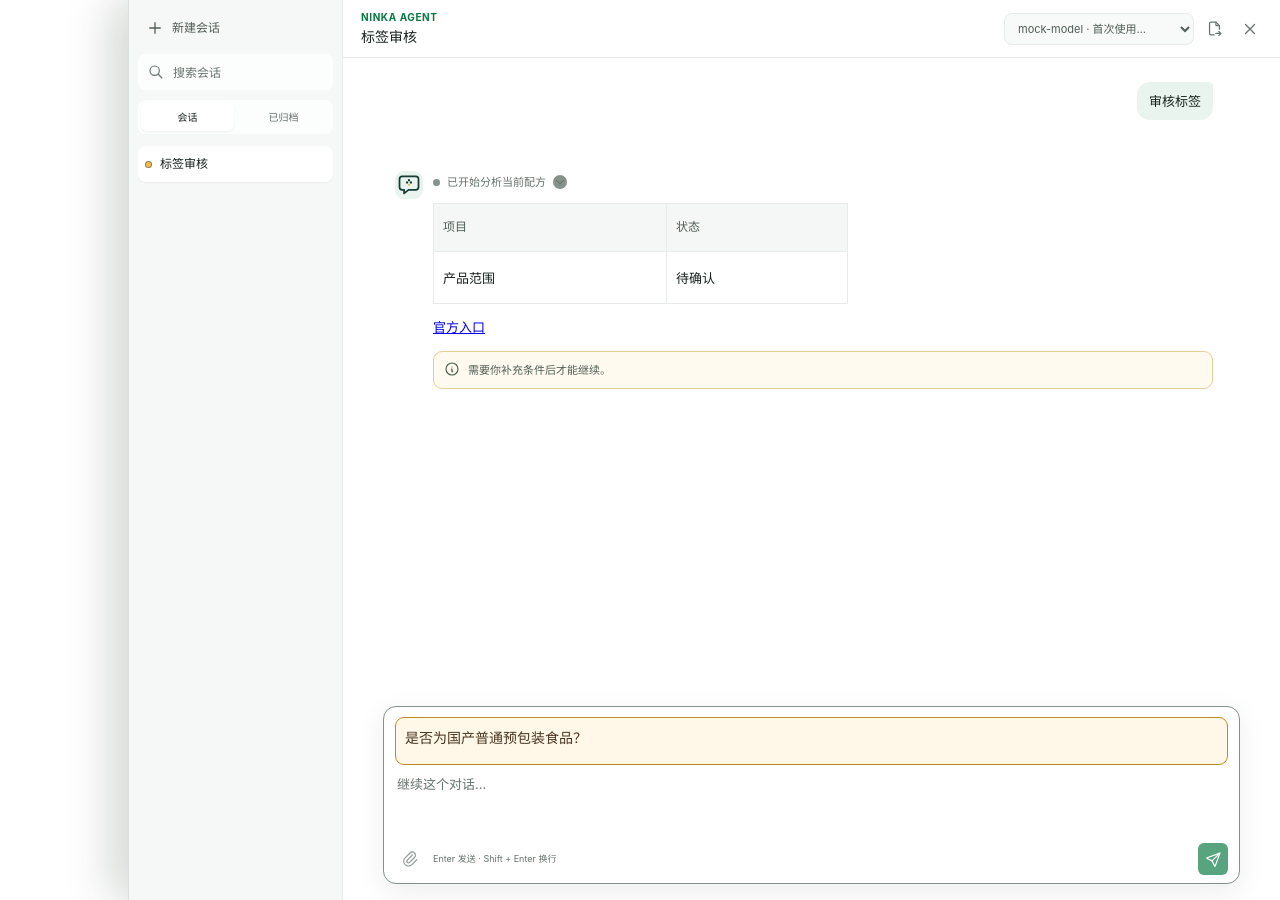
Scenario: HarnessAgentPanel › selects an @ recipe with the keyboard and stores a structured reference
This screenshot has width=1280, height=900.
Type "分析 @冰" into the text box named "给 Ninka Agent 发消息" at [812, 804], box [395,772,1228,836]
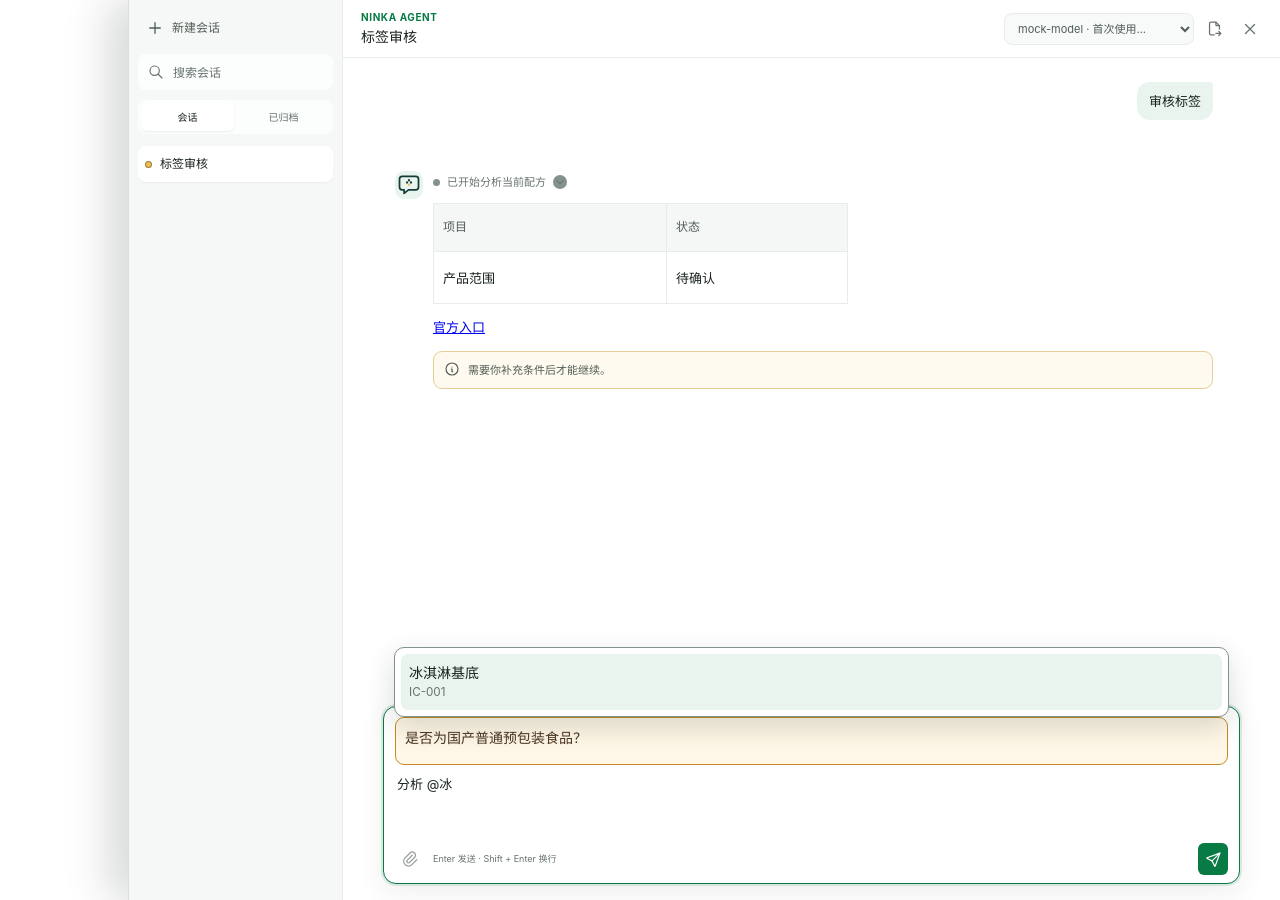
Expected: the option "冰淇淋基底 IC-001" is shown, [401,654,1222,710]
Press Arrowdown Enter
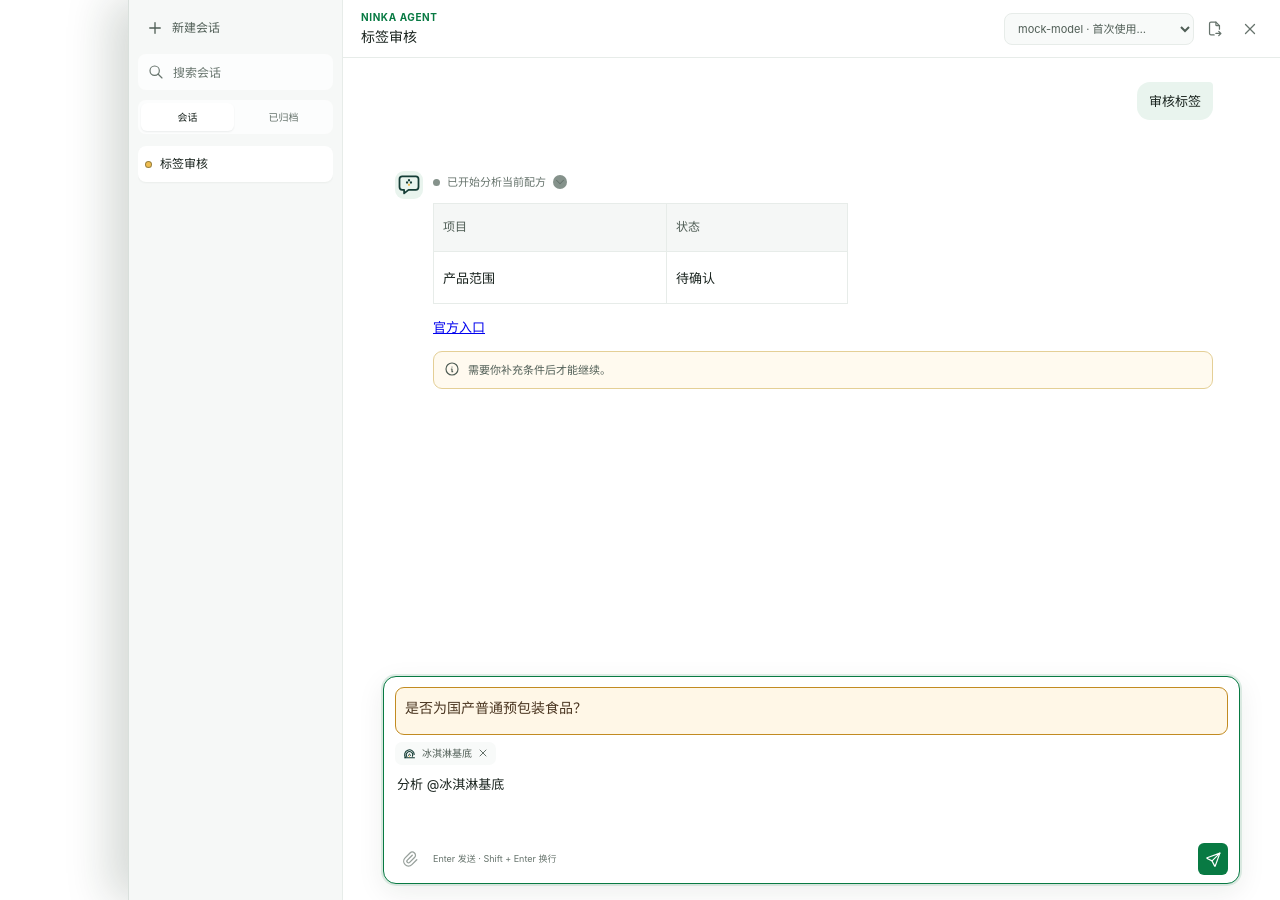
Expected: the button named "移除 冰淇淋基底" is shown, [477,747,489,759]
Expected: the text box named "给 Ninka Agent 发消息" holds "分析 @冰淇淋基底 ", [395,772,1228,836]
